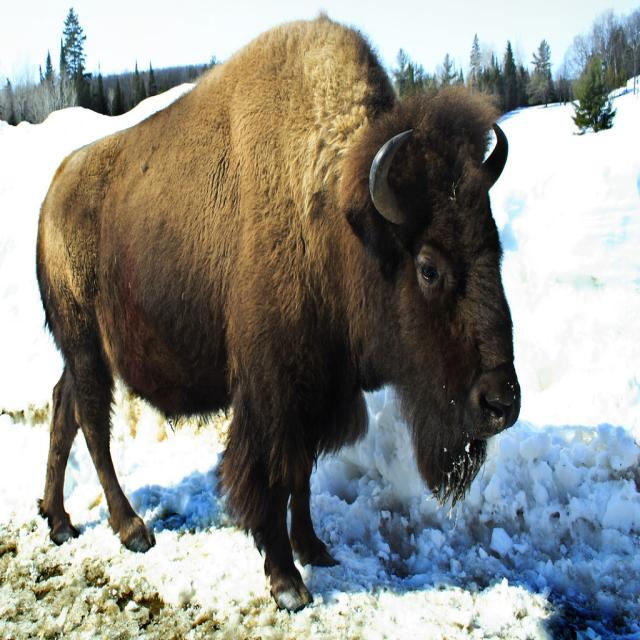Cattle: (31, 8, 523, 612)
